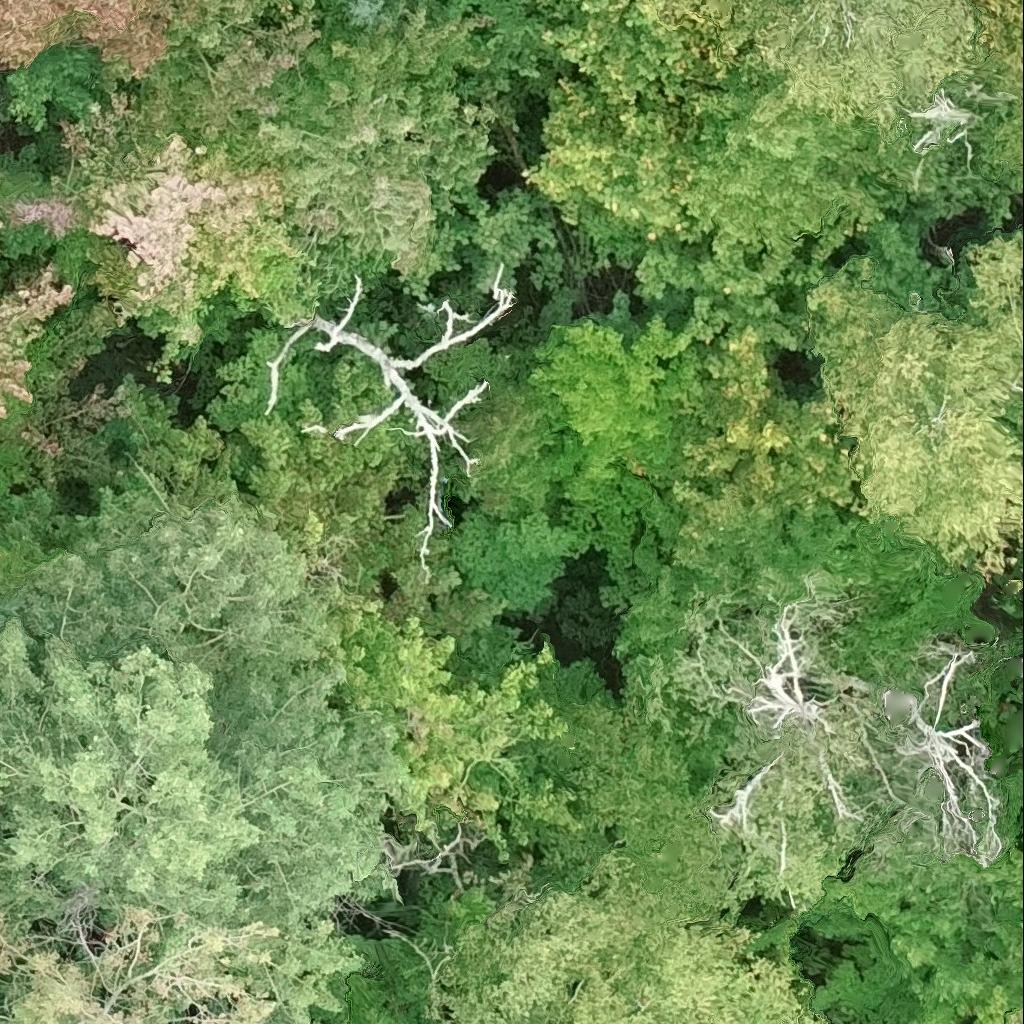crown: (0, 485, 410, 937), (432, 664, 742, 1023), (0, 76, 341, 385), (206, 0, 541, 288), (436, 291, 728, 621), (621, 580, 898, 909), (322, 558, 586, 873), (118, 345, 430, 598), (265, 267, 512, 577), (387, 75, 714, 304), (799, 257, 1023, 576), (616, 493, 1006, 675), (669, 53, 951, 268), (856, 624, 1023, 903), (654, 322, 870, 529), (0, 908, 361, 1023), (528, 896, 823, 1023), (811, 849, 1023, 1023), (0, 213, 124, 508), (768, 0, 992, 143), (134, 0, 347, 143), (641, 218, 848, 360), (531, 0, 773, 106), (200, 318, 348, 443), (454, 499, 581, 615), (964, 0, 1023, 172), (57, 0, 174, 80), (653, 0, 781, 57), (964, 232, 1023, 332), (0, 0, 78, 68), (335, 0, 408, 34), (970, 986, 1023, 1023), (1008, 383, 1023, 443), (1014, 521, 1023, 599), (1004, 998, 1023, 1023)
